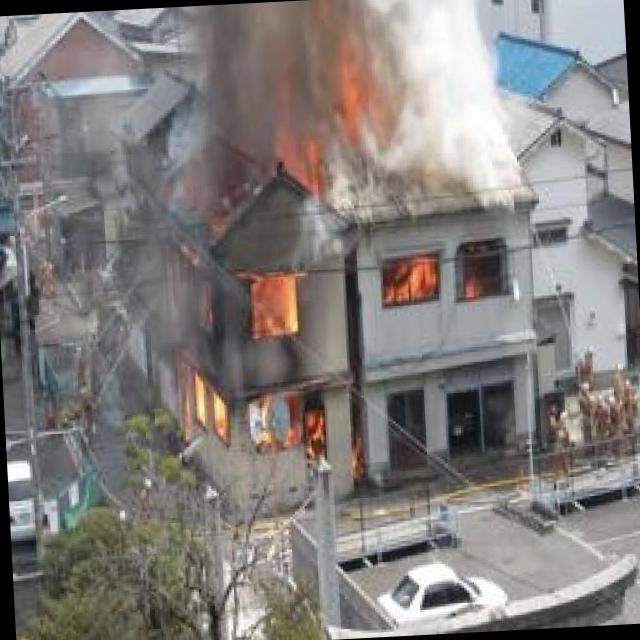Fire: (175, 226, 372, 499), (384, 254, 442, 308)
Smoke: (173, 0, 536, 227)
